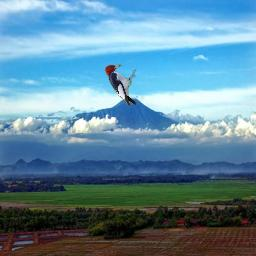Woodpecker: (104, 63, 137, 107)
